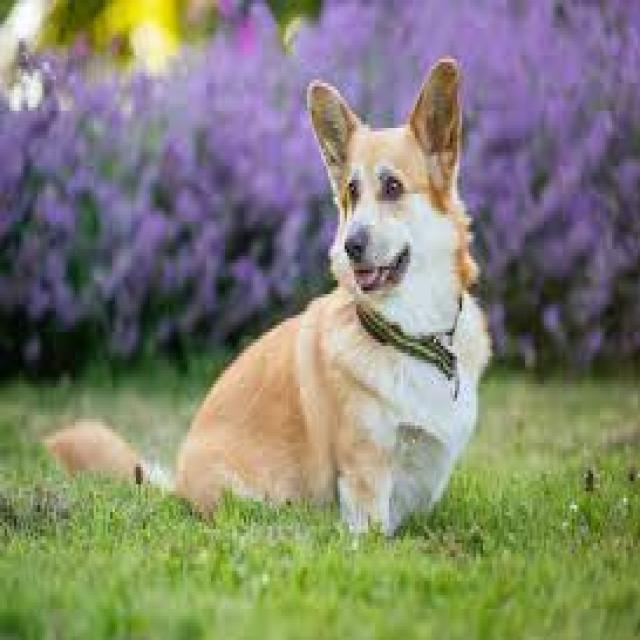CORGI: (49, 51, 506, 540)
